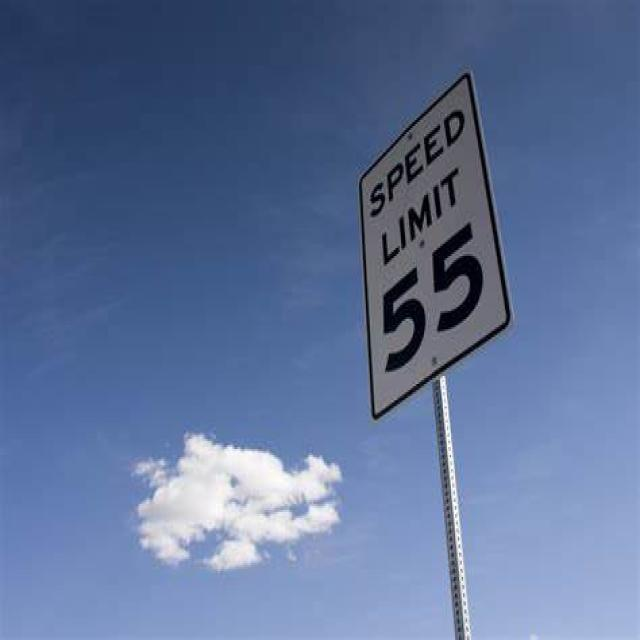speedLimit55: (356, 68, 506, 436)
